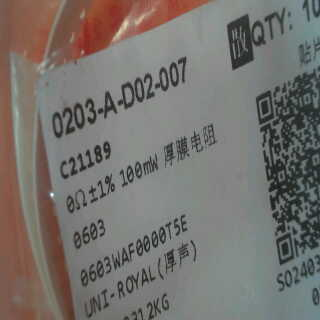0R: (62, 173, 118, 250)
